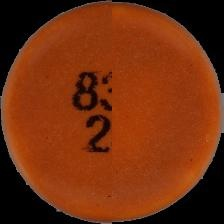53808-0924: (0, 0, 224, 224)
